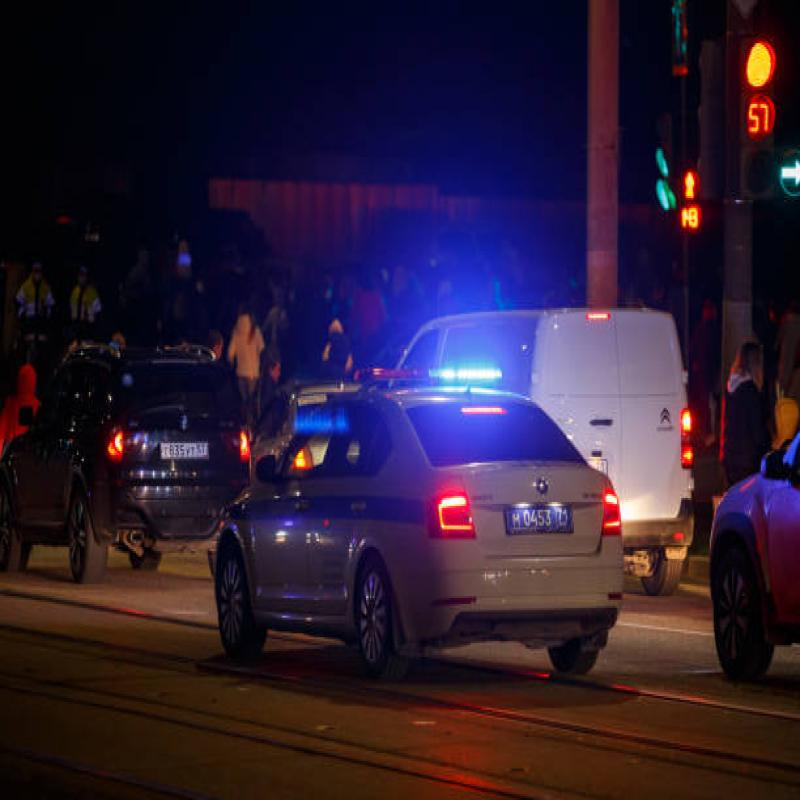AmbulanceSiren: (350, 346, 508, 399)
